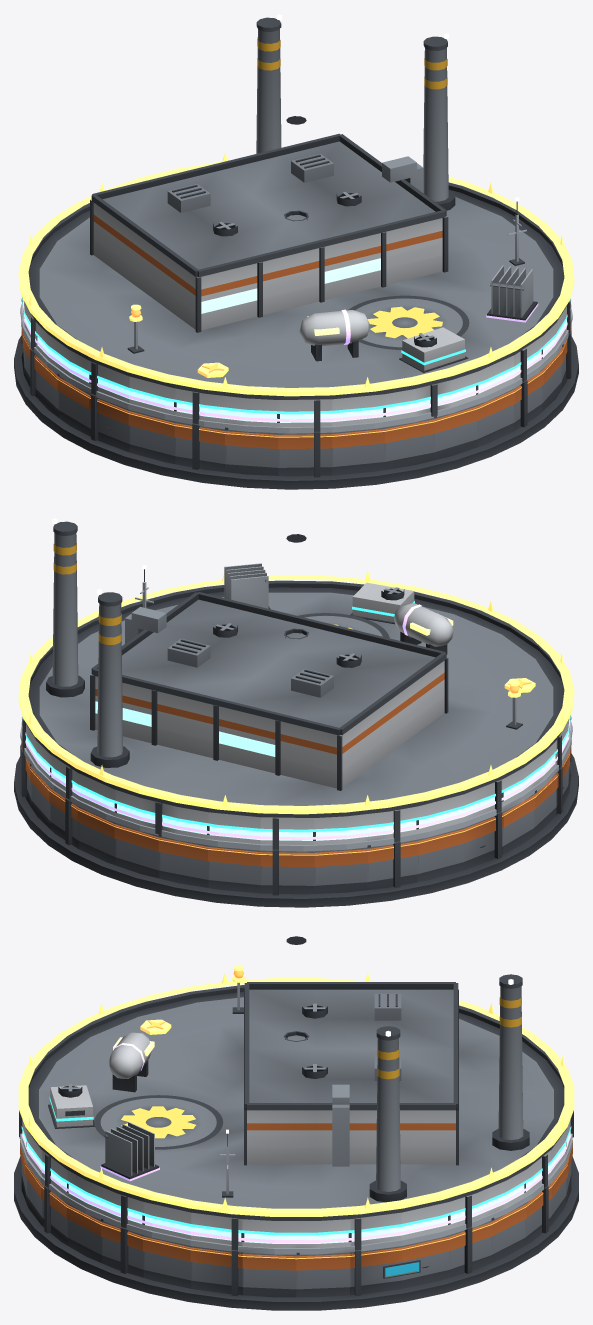
The model's file is electronics_fab.glb.
3 views of the same model, one above another, from view 1: azimuth 30°, elevation 25°; view 2: azimuth 150°, elevation 25°; view 3: azimuth 270°, elevation 25° (orthographic).
Visible parts, largest first — view 1: Roof, Base, L4, Wall_21, Wall_20, Wall_22, Wall_19, Wall_23, L3, Wall_18, Wall_24, Wall_17 (+20 smaller); view 2: Roof, Base, L4, Wall_10, Wall_11, Wall_09, Wall_12, Wall_08, Wall_13, Wall_07, L3, Wall_14 (+25 smaller); view 3: Roof, Base, L4, Wall_31, Wall_00, Wall_30, Wall_29, Wall_01, Wall_02, Wall_28, Wall_03, L3 (+24 smaller).
Boxes of the visible parts, <box> form: Roof: <box>28,14,567,399</box>; Base: <box>14,335,578,489</box>; L4: <box>299,265,538,361</box>; Wall_21: <box>278,431,332,477</box>; Wall_20: <box>225,427,278,475</box>; Wall_22: <box>332,427,384,475</box>; Wall_19: <box>174,421,225,471</box>; Wall_23: <box>384,418,434,469</box>; L3: <box>399,327,468,372</box>; Wall_18: <box>128,410,175,463</box>; Wall_24: <box>433,405,478,460</box>; Wall_17: <box>89,394,129,452</box>; Roof: <box>25,518,564,817</box>; Base: <box>14,753,578,907</box>; L4: <box>224,563,453,654</box>; Wall_10: <box>260,849,314,895</box>; Wall_11: <box>314,847,367,893</box>; Wall_09: <box>208,845,260,893</box>; Wall_12: <box>367,839,418,889</box>; Wall_08: <box>158,834,208,887</box>; Wall_13: <box>417,828,464,881</box>; Wall_07: <box>114,823,159,878</box>; L3: <box>350,582,414,624</box>; Wall_14: <box>463,812,503,870</box>; Roof: <box>25,936,567,1220</box>; Base: <box>14,1156,578,1310</box>; L4: <box>100,1032,159,1181</box>; Wall_31: <box>242,1252,296,1297</box>; Wall_00: <box>296,1252,350,1297</box>; Wall_30: <box>190,1246,242,1296</box>; Wall_29: <box>142,1235,191,1288</box>; Wall_01: <box>350,1246,402,1296</box>; Wall_02: <box>401,1235,450,1288</box>; Wall_28: <box>101,1218,143,1277</box>; Wall_03: <box>449,1221,491,1277</box>; L3: <box>48,1084,94,1128</box>.
Size of the model in its own units: 14.75 by 7.39 by 14.75.
